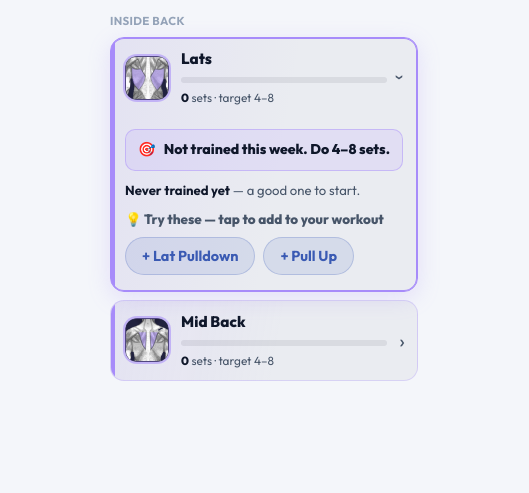
Muscle part "Try these" chips › tick several, and tap a ticked one again to untick it
Click the button "+ Lat Pulldown" at (190, 256), box [125,237,256,275]
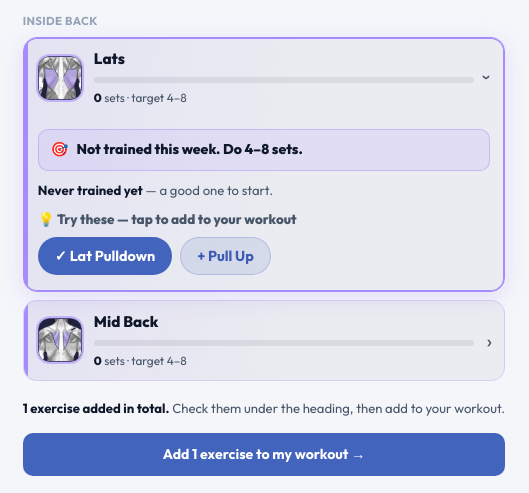
Click the button "+ Pull Up" at (226, 256), box [180,237,271,275]
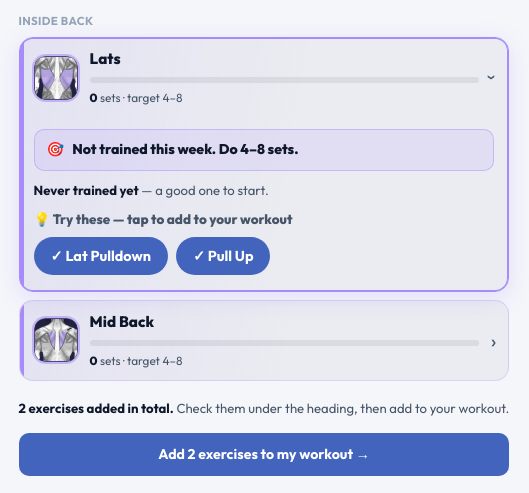
Now the button "Add 2 exercises to my workout →" is shown, box [19,433,509,476]
Click the button "✓ Lat Pulldown" at (101, 256), box [34,237,168,275]
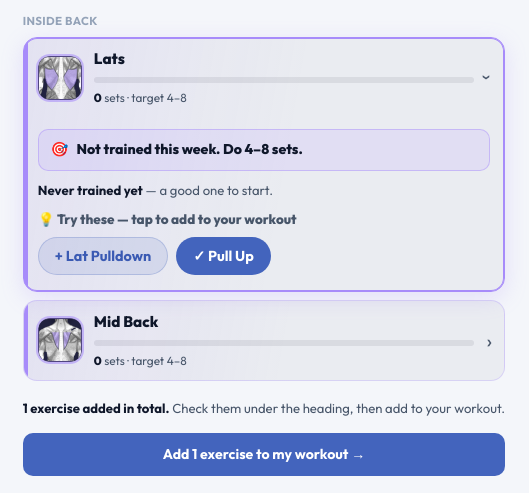
Now the button "Add 1 exercise to my workout →" is shown, box [23,433,505,476]
